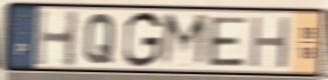E: (207, 15, 249, 69)
G: (122, 10, 165, 70)
H: (33, 6, 82, 70), (248, 14, 293, 71)
M: (158, 11, 211, 70)
Q: (82, 12, 119, 66)
